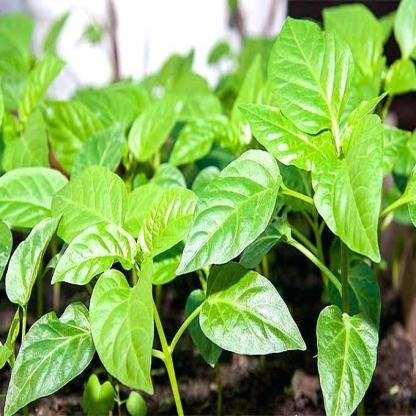bell pepper leaf: (172, 149, 283, 268), (268, 13, 358, 138), (198, 257, 310, 355), (5, 300, 98, 415), (310, 138, 390, 268), (91, 258, 155, 398), (314, 301, 381, 415), (46, 161, 128, 238), (6, 208, 63, 308), (44, 224, 139, 279), (142, 185, 199, 263)
